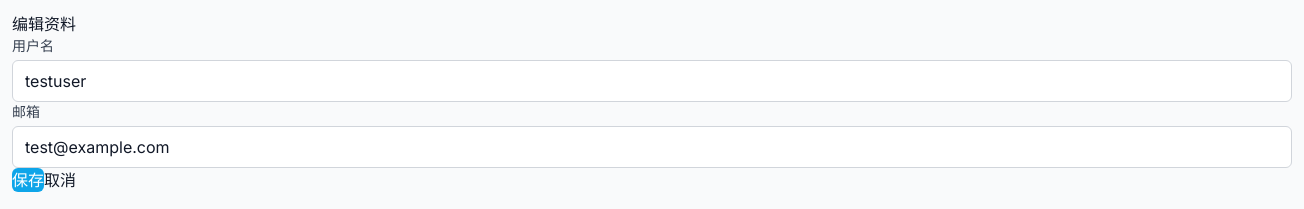
Test case: ProfileForm - 加载状态 › 提交时应该显示加载状态
Replace the text in the field labelled "用户名" with "newuser" at point(652, 81), box [12, 60, 1292, 102]
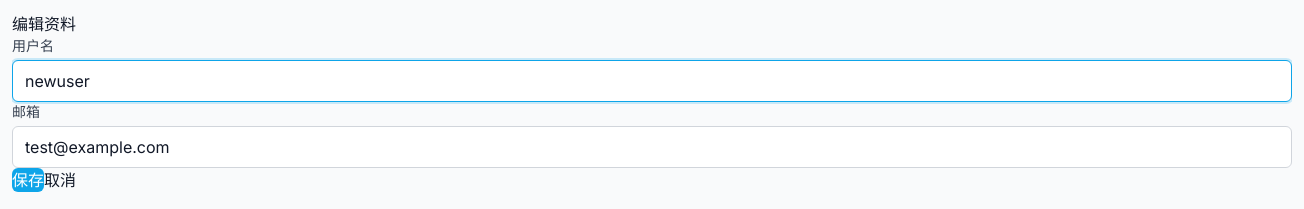
Click the button "保存" at point(28, 180), box [12, 168, 44, 192]
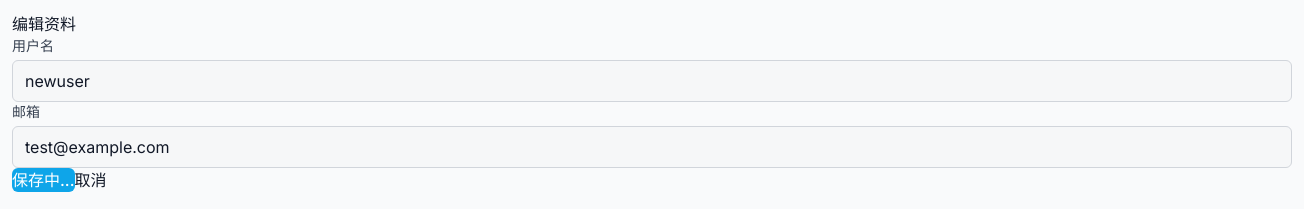
Now the button "保存中..." is disabled, box [12, 168, 75, 192]
